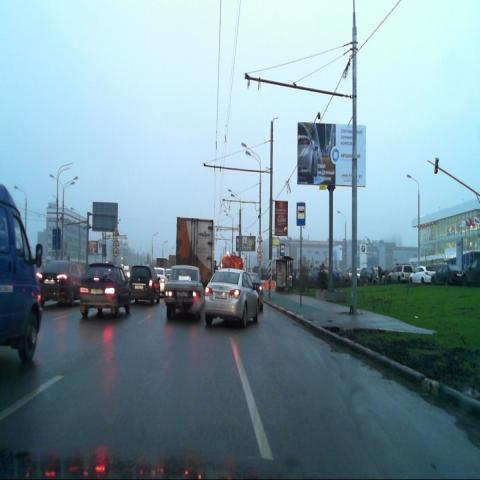5_16: (296, 202, 305, 226)
